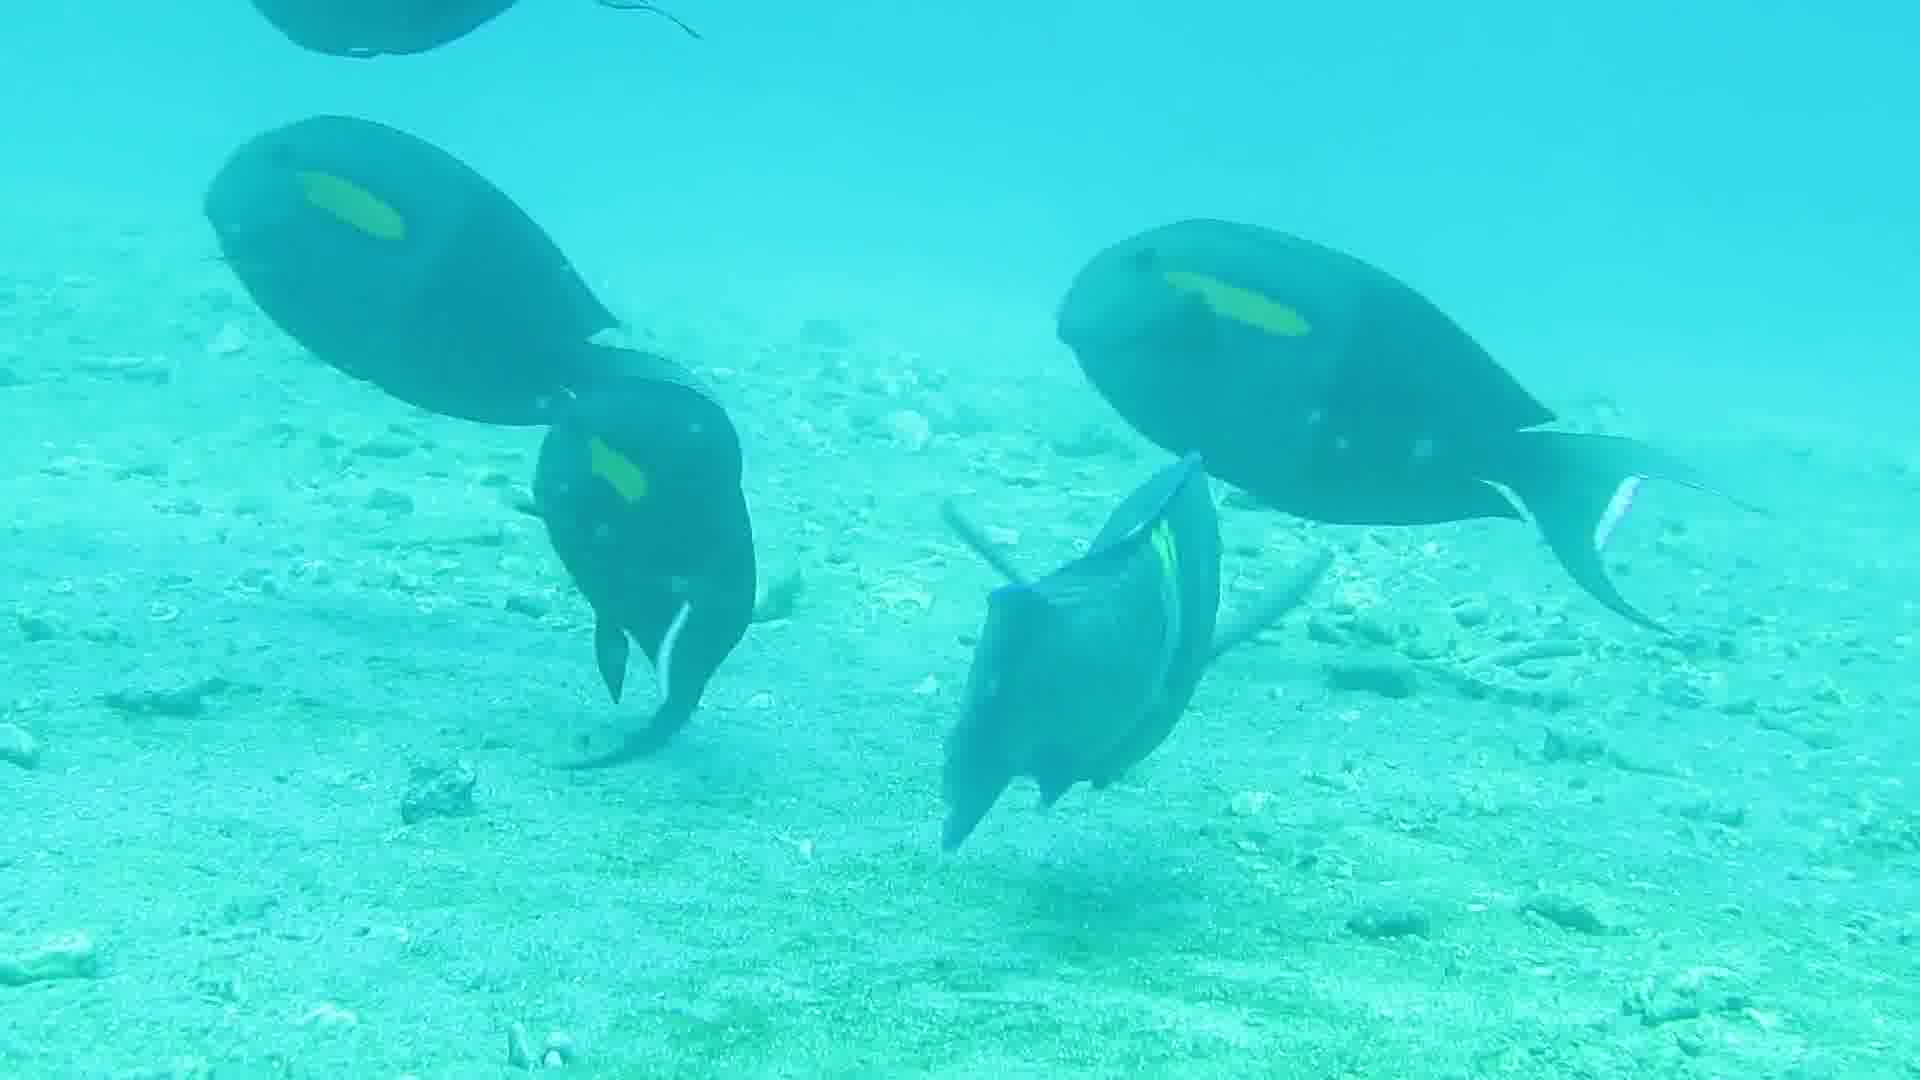Acanthurus olivaceus: (1063, 141, 1669, 578), (915, 454, 1271, 839), (508, 367, 864, 752), (225, 76, 582, 462)
